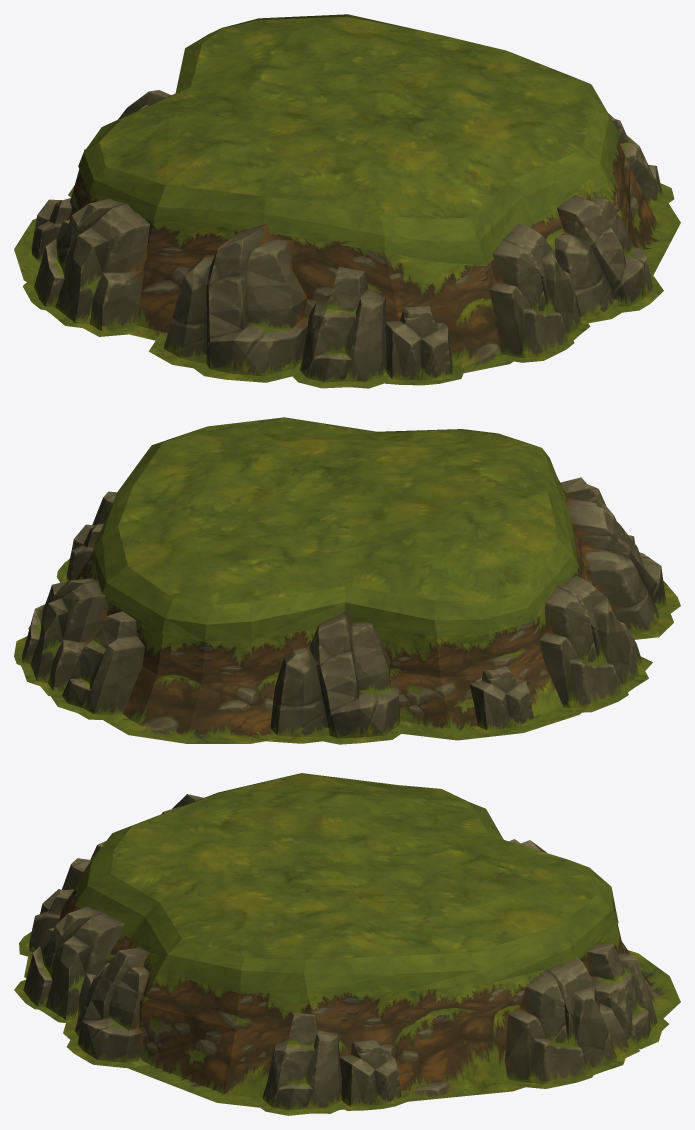
The model's file is berm_mesa_1.fbx.
3 views of the same model, one above another, from view 1: azimuth 30°, elevation 25°; view 2: azimuth 150°, elevation 25°; view 3: azimuth 270°, elevation 25° (orthographic). The views are drawn at different scales.
Parts seen in each view (by area): view 1: obj3.003; view 2: obj3.003; view 3: obj3.003.
Boxes of the visible parts, x1,y1,x2,y2 form: obj3.003: [14, 14, 680, 388]; obj3.003: [14, 417, 680, 744]; obj3.003: [14, 773, 680, 1115].
Bounding box in the file's own units: 21.96 × 4.69 × 22.45.
